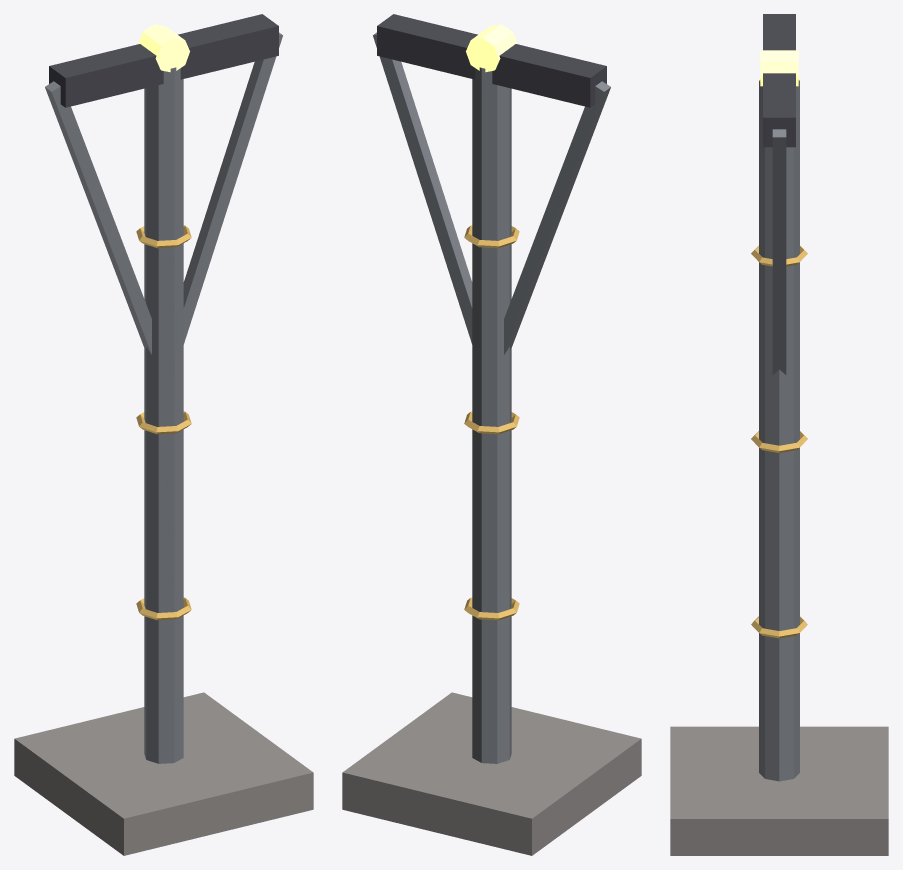
Rendered from zipline_pylon_v1.glb.
3 views of the same model, side by side, from view 1: azimuth 30°, elevation 25°; view 2: azimuth 150°, elevation 25°; view 3: azimuth 270°, elevation 25° (orthographic).
Parts seen in each view (by area): view 1: zipline_pylon; view 2: zipline_pylon; view 3: zipline_pylon.
Part boxes in pixels (box(x1,y1,x2,y2)): zipline_pylon: box(14, 14, 313, 855); zipline_pylon: box(342, 14, 641, 855); zipline_pylon: box(670, 14, 888, 855).
Bounding box in the file's own units: 1.95 × 6.14 × 1.6.
